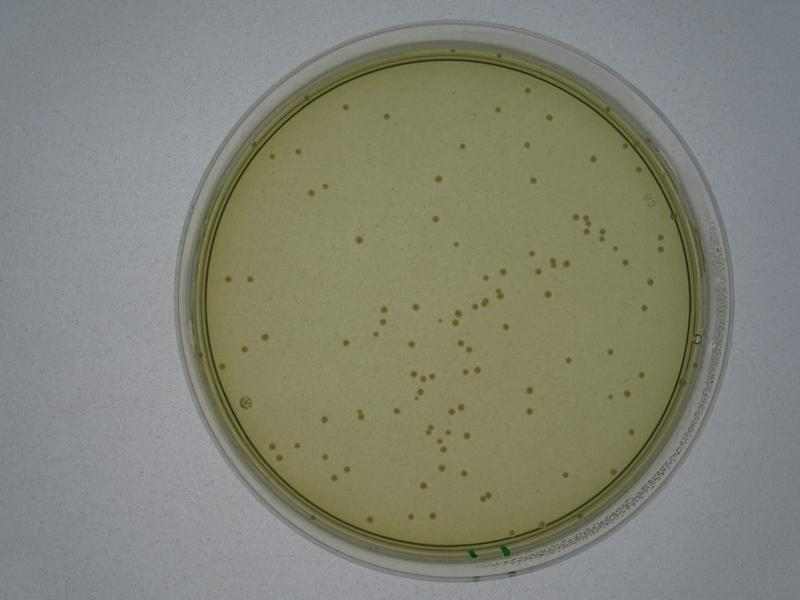colony: (379, 108, 398, 127), (337, 101, 354, 114), (586, 151, 599, 168), (338, 337, 353, 351), (543, 108, 554, 127), (500, 321, 512, 338), (521, 384, 538, 396), (561, 353, 574, 366), (526, 174, 539, 186), (236, 343, 249, 355), (408, 302, 422, 313), (522, 85, 533, 98), (521, 136, 532, 148), (523, 405, 535, 416), (319, 412, 330, 424), (524, 247, 536, 258), (458, 137, 467, 151), (245, 274, 256, 284), (543, 289, 554, 299), (491, 105, 504, 113), (433, 174, 443, 184), (261, 331, 270, 342), (354, 236, 364, 245), (430, 215, 439, 222)
